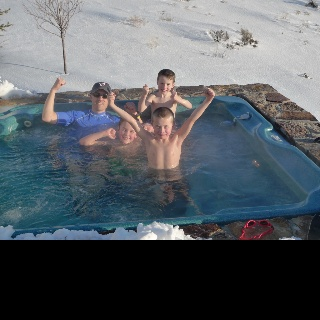without_mask: (150, 106, 174, 140), (156, 74, 175, 95)
